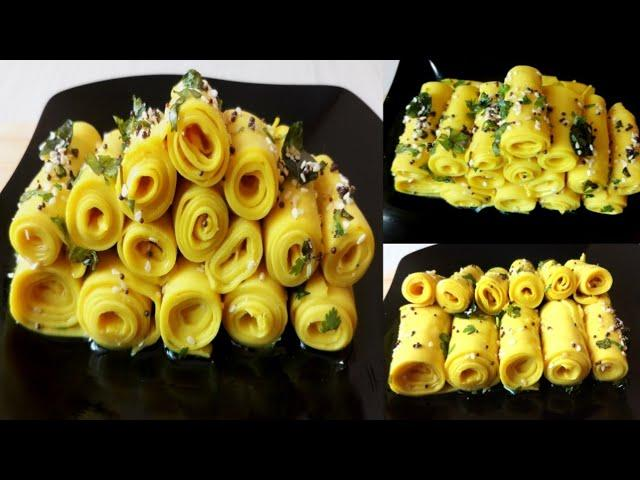khandvi: (0, 86, 369, 361), (394, 66, 640, 221), (385, 254, 640, 403)
